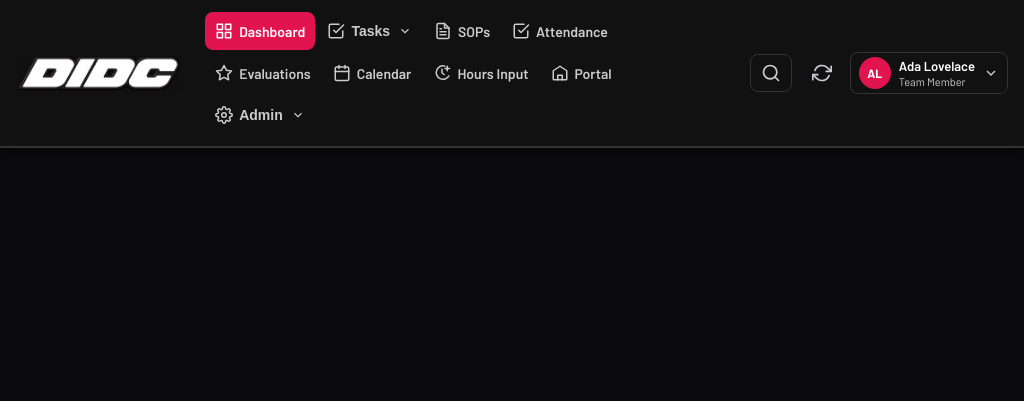
Test: desktop header › keeps a super admin to one top-level row of entries
What coordinates should you click on to do the following:
click the button "Admin"
I would click on:
 (260, 115)
Its box is [205,96,315,134].
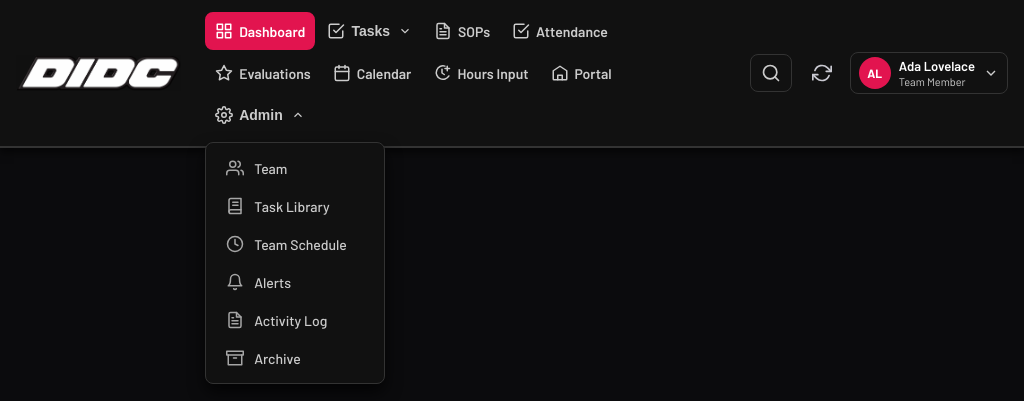
expect the link "Team" is shown: met, box [226,159,287,177]
expect the link "Team Schedule" is shown: met, box [226,235,347,253]
expect the link "Alerts" is shown: met, box [226,273,291,291]
